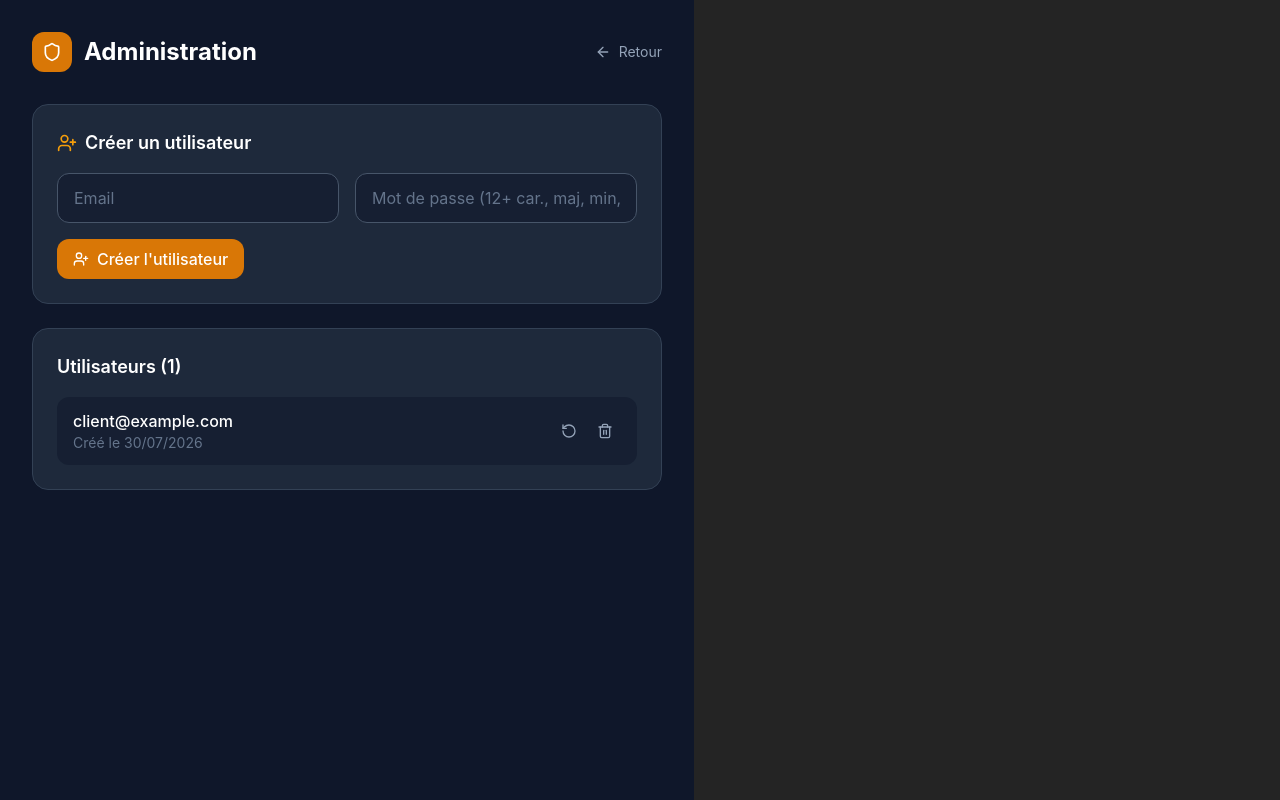
AdminPage project reset › keeps a visible warning when an image cleanup fails
Click the button named "Réinitialiser le projet de client@example.com" at (569, 431), box [553,415,585,447]
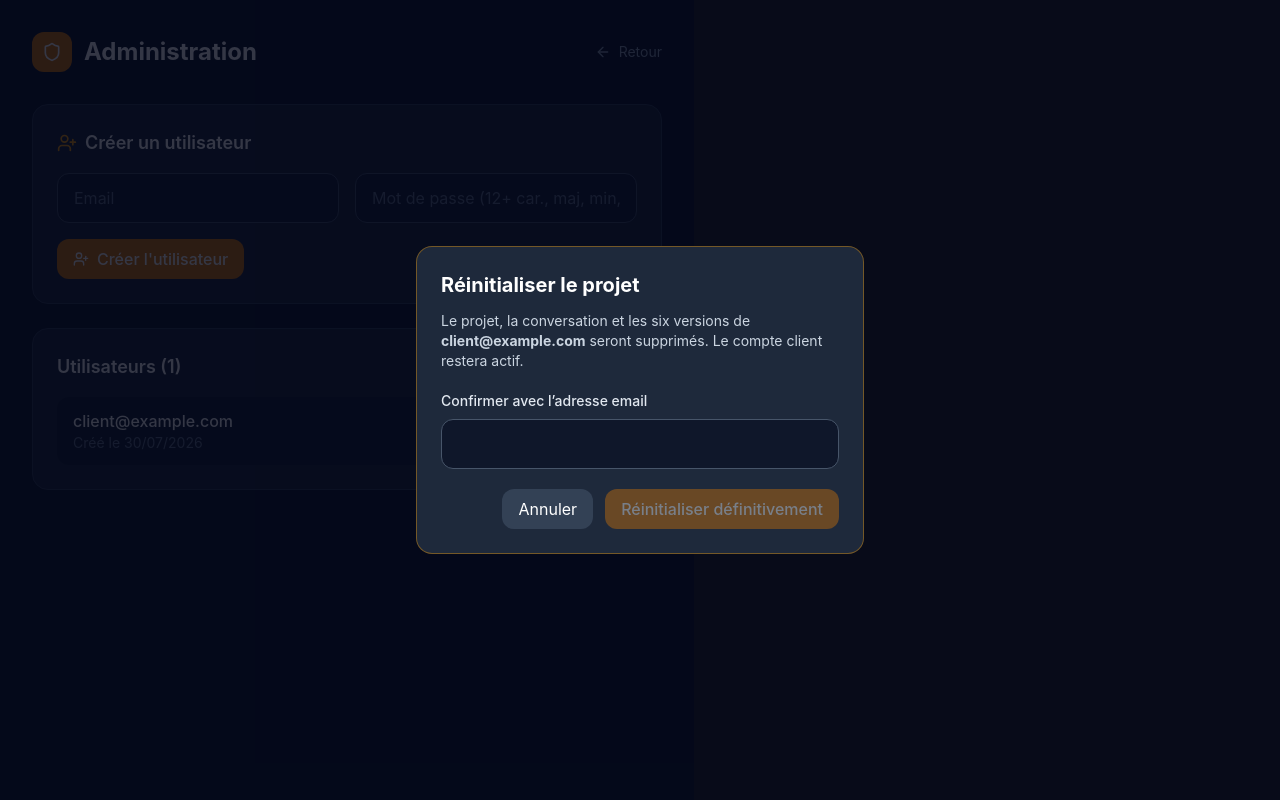
Type "client@example.com" into the field labelled "Confirmer avec l’adresse email" at (640, 444), box [441,419,839,469]
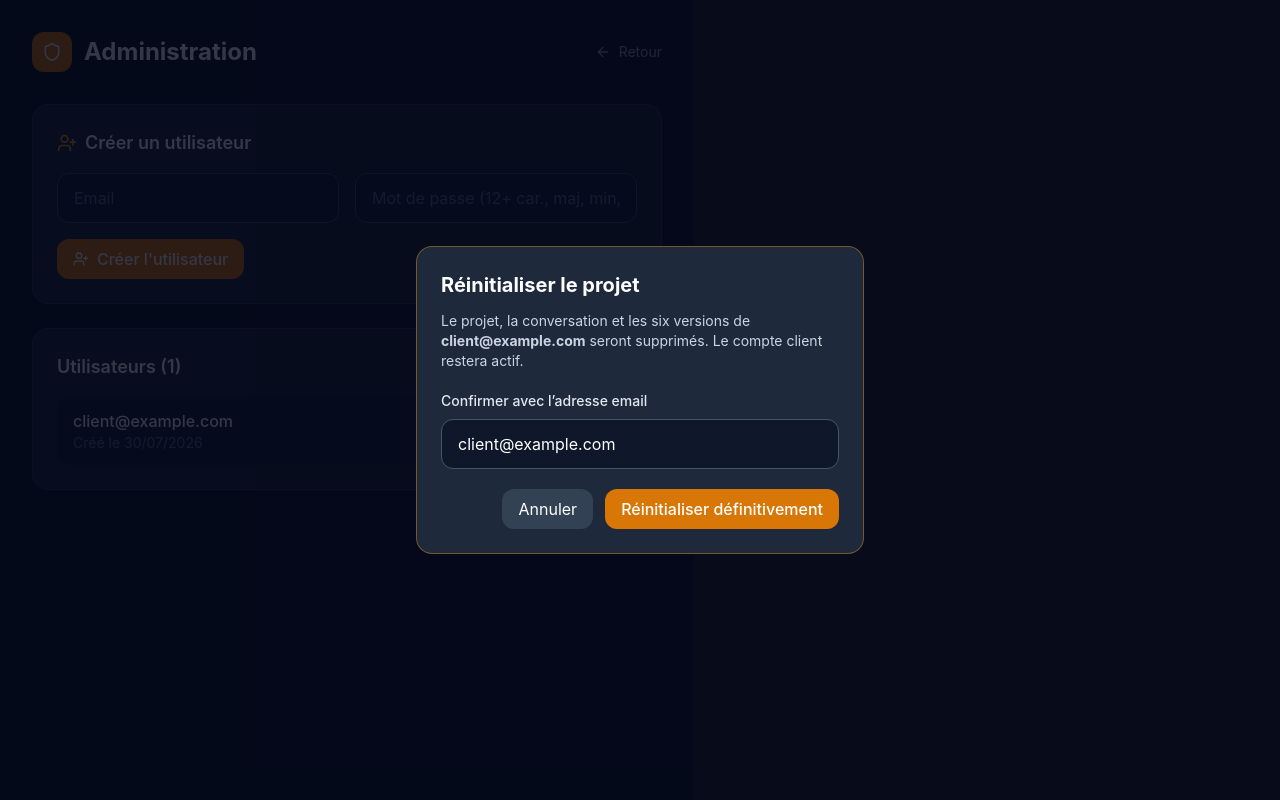
Click the button "Réinitialiser définitivement" at (722, 509), box [605,489,839,529]
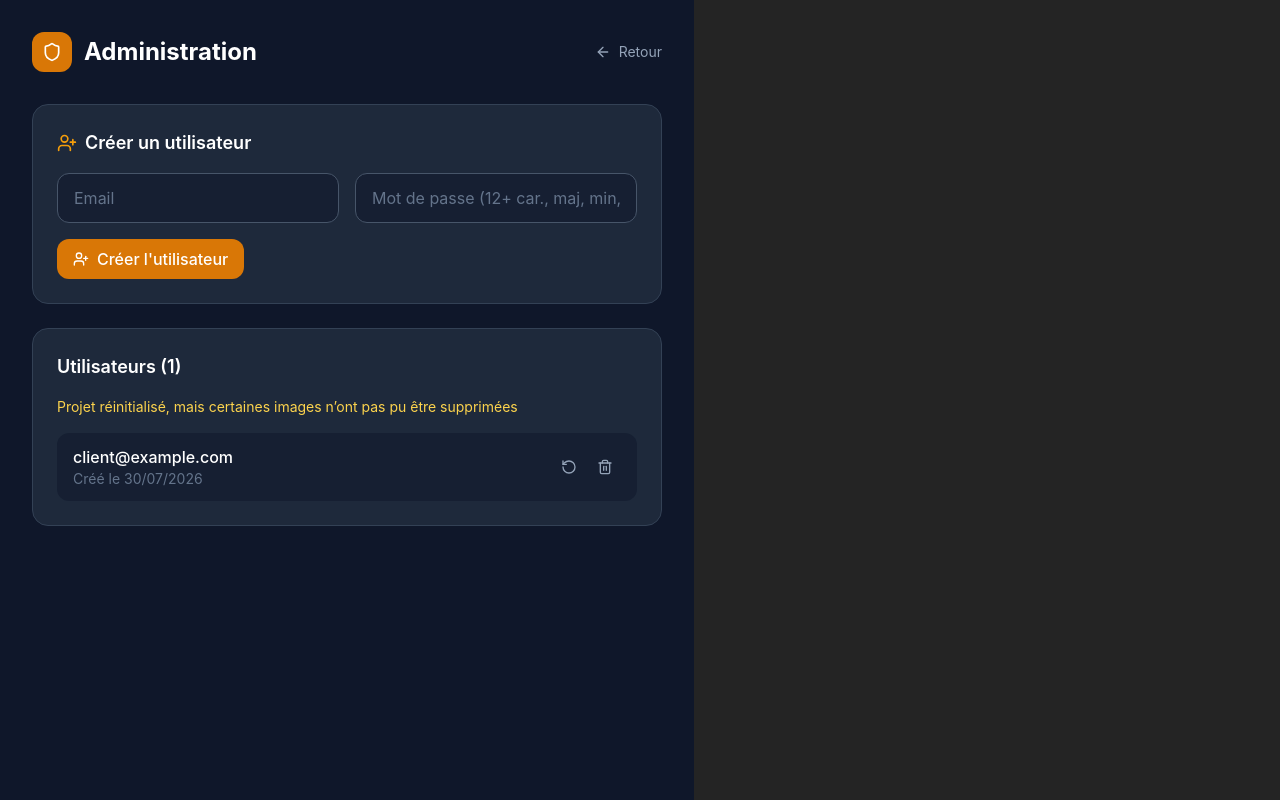
Result: the message reads "Projet réinitialisé, mais certaines images n’ont pas pu être supprimées" at [57,398,518,415]
